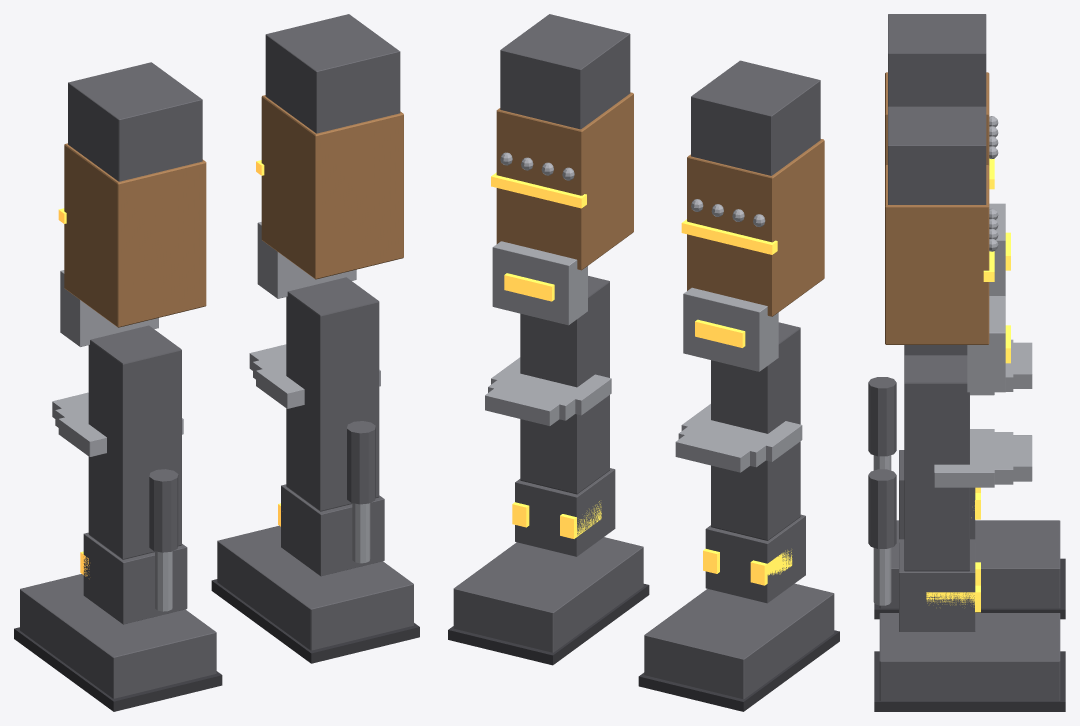
The model's file is legs-bruiser3.glb.
The picture shows the model from 3 angles, left to right: view 1: azimuth 30°, elevation 25°; view 2: azimuth 150°, elevation 25°; view 3: azimuth 270°, elevation 25°; orthographic projection. The views are drawn at different scales.
Parts seen in each view (by area): view 1: thigh_r, thigh_l, shin_r, shin_l, foot_r, foot_l, hip_l, hip_r, ankle_r, ankle_l, sole_r, sole_l (+10 smaller); view 2: thigh_r, thigh_l, foot_l, foot_r, shin_r, shin_l, hip_l, hip_r, ankle_l, knee_l, ankle_r, knee_r (+14 smaller); view 3: thigh_l, foot_l, shin_l, hip_l, hip_r, foot_r, ankle_l, sole_l, knee_l, sleeve_l, sleeve_r, plate1_l (+10 smaller).
Boxes of the visible parts, left/top/right/bottom form: thigh_r: left=64, top=143, right=206, bottom=327; thigh_l: left=261, top=95, right=403, bottom=279; shin_r: left=88, top=325, right=181, bottom=559; shin_l: left=286, top=277, right=379, bottom=511; foot_r: left=20, top=574, right=216, bottom=698; foot_l: left=217, top=525, right=413, bottom=650; hip_l: left=265, top=14, right=400, bottom=133; hip_r: left=68, top=62, right=202, bottom=181; ankle_r: left=83, top=532, right=187, bottom=624; ankle_l: left=281, top=484, right=384, bottom=576; sole_r: left=14, top=627, right=222, bottom=711; sole_l: left=211, top=579, right=419, bottom=663; thigh_r: left=687, top=139, right=824, bottom=316; thigh_l: left=496, top=92, right=633, bottom=270; foot_l: left=453, top=537, right=643, bottom=652; foot_r: left=644, top=583, right=834, bottom=699; shin_r: left=711, top=322, right=800, bottom=540; shin_l: left=520, top=276, right=609, bottom=494; hip_l: left=500, top=14, right=630, bottom=129; hip_r: left=691, top=60, right=820, bottom=175; ankle_l: left=515, top=468, right=615, bottom=556; knee_l: left=492, top=241, right=587, bottom=325; ankle_r: left=705, top=514, right=805, bottom=603; knee_r: left=683, top=287, right=778, bottom=371; thigh_l: left=885, top=165, right=989, bottom=344; foot_l: left=879, top=613, right=1060, bottom=700; shin_l: left=904, top=355, right=969, bottom=571; hip_l: left=888, top=106, right=986, bottom=204; hip_r: left=888, top=14, right=986, bottom=106; foot_r: left=879, top=520, right=1060, bottom=608; ankle_l: left=899, top=542, right=975, bottom=631; sole_l: left=874, top=651, right=1065, bottom=711; knee_l: left=967, top=296, right=1005, bottom=392; sleeve_l: left=868, top=469, right=896, bottom=548; sleeve_r: left=868, top=377, right=896, bottom=456; plate1_l: left=962, top=432, right=1013, bottom=484.
Size of the model in its own units: 0.62 by 1.13 by 0.361.
